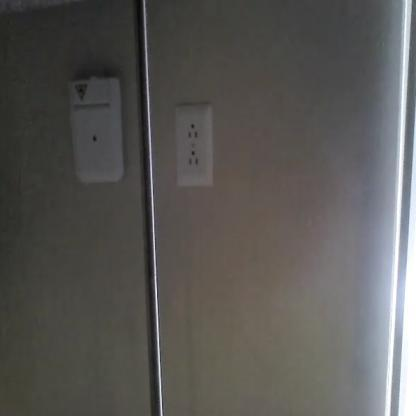OUTLET: (173, 104, 213, 188)
